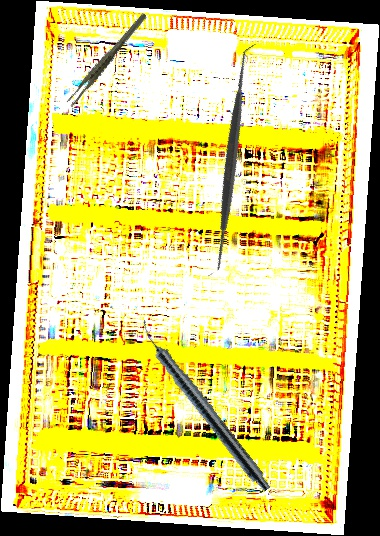Handpiece: (132, 317, 277, 495)
Spatula Surgical: (116, 43, 348, 277)
Tissue Forceps: (52, 11, 162, 109)
